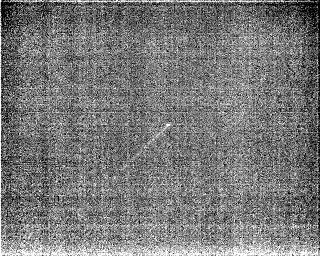AIRPLANE: (115, 122, 173, 169)
